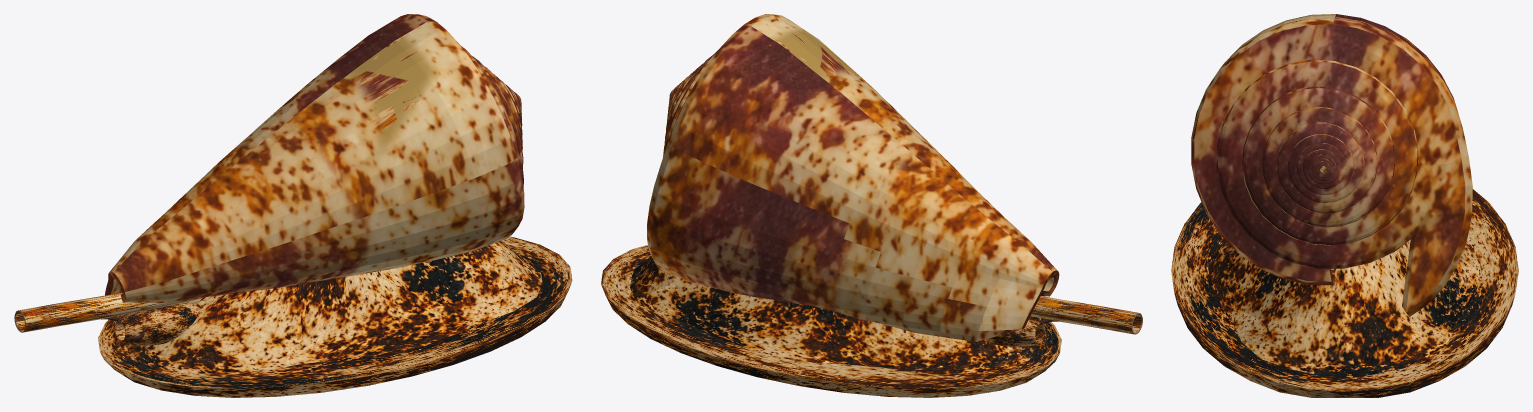
Rendered from GeographyConeSnail.glb.
3 views of the same model, side by side, from view 1: azimuth 30°, elevation 25°; view 2: azimuth 150°, elevation 25°; view 3: azimuth 270°, elevation 25° (orthographic). The views are drawn at different scales.
Visible parts, largest first — view 1: Shell, Body, Proboscis, Siphon; view 2: Shell, Body, Proboscis, Siphon; view 3: Shell, Body.
Part boxes in pixels (x1,y1,x2,y2): Shell: (105,14,524,302); Body: (98,236,572,397); Proboscis: (14,292,203,332); Siphon: (115,302,200,345); Shell: (647,14,1059,341); Body: (601,245,1061,397); Proboscis: (1030,296,1142,334); Siphon: (985,316,1045,347); Shell: (1191,14,1472,316); Body: (1171,189,1518,397).
Bounding box in the file's own units: 1.73 × 0.8594 × 0.8701.
5 materials, 4 textured.
